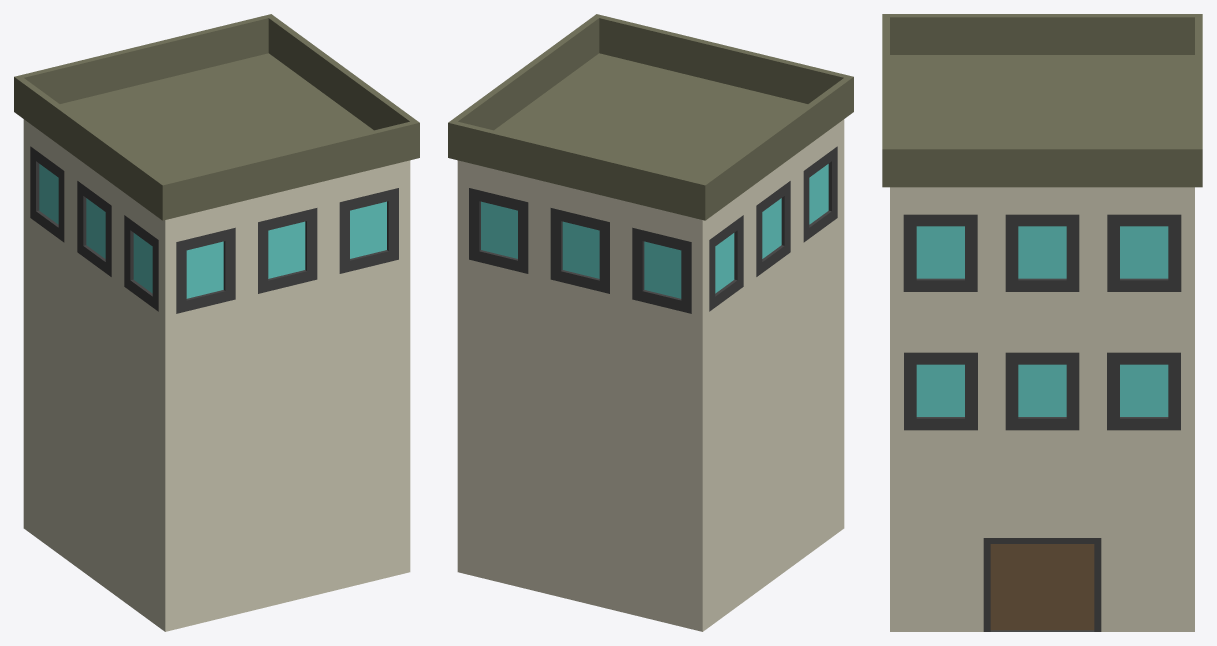
File: random res build 10.fbx
The picture shows the model from 3 angles, left to right: view 1: azimuth 30°, elevation 25°; view 2: azimuth 150°, elevation 25°; view 3: azimuth 270°, elevation 25°; orthographic projection. The views are drawn at different scales.
Visible parts, largest first — view 1: building_010; view 2: building_010; view 3: building_010.
Part boxes in pixels (x1,y1,x2,y2): building_010: (14,14,419,631); building_010: (448,14,853,631); building_010: (882,14,1202,631).
Bounding box in the file's own units: 2212 × 3702 × 2212.
